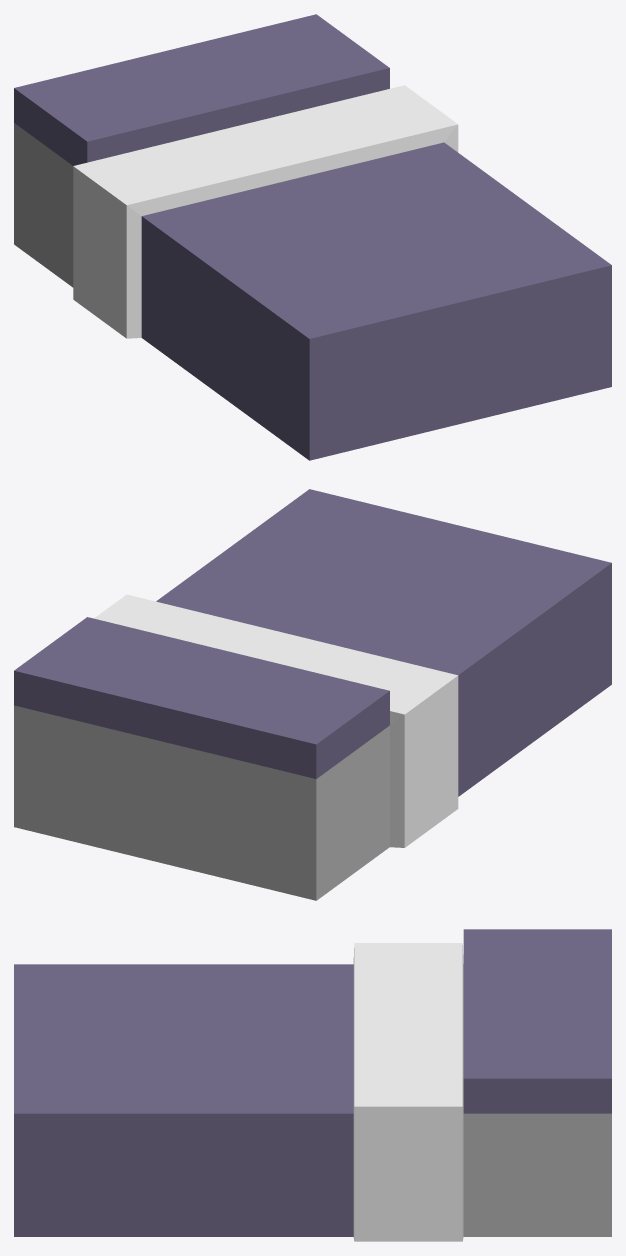
The model's file is bed.fbx.
The picture shows the model from 3 angles, top to bottom: view 1: azimuth 30°, elevation 25°; view 2: azimuth 150°, elevation 25°; view 3: azimuth 270°, elevation 25°; orthographic projection.
Visible parts, largest first — view 1: pCube1; view 2: pCube1; view 3: pCube1.
Boxes of the visible parts, bbox=[...] form: pCube1: bbox=[14, 14, 611, 460]; pCube1: bbox=[14, 489, 611, 900]; pCube1: bbox=[14, 929, 611, 1241].
Bounding box in the file's own units: 17.81 × 8.03 × 27.5.
Materials: 1 (1 with a texture image).
